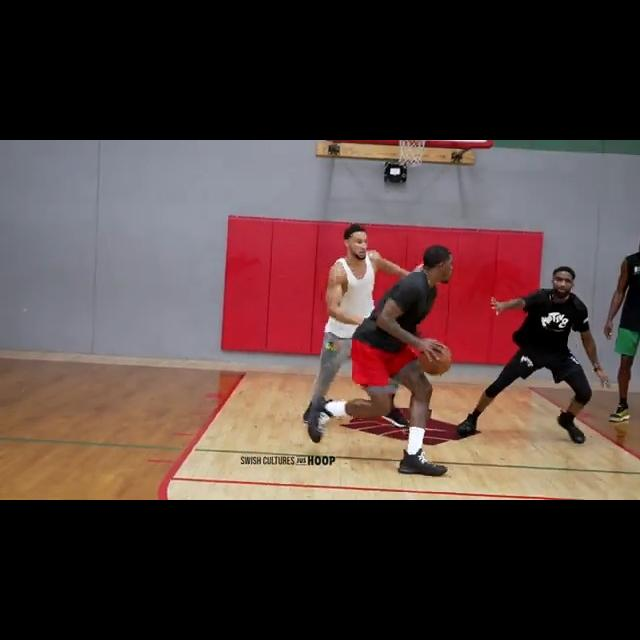basketball: (419, 342, 451, 377)
hoop: (400, 140, 426, 170)
person: (307, 239, 451, 475), (452, 250, 614, 446), (299, 219, 410, 435), (606, 238, 640, 424)
